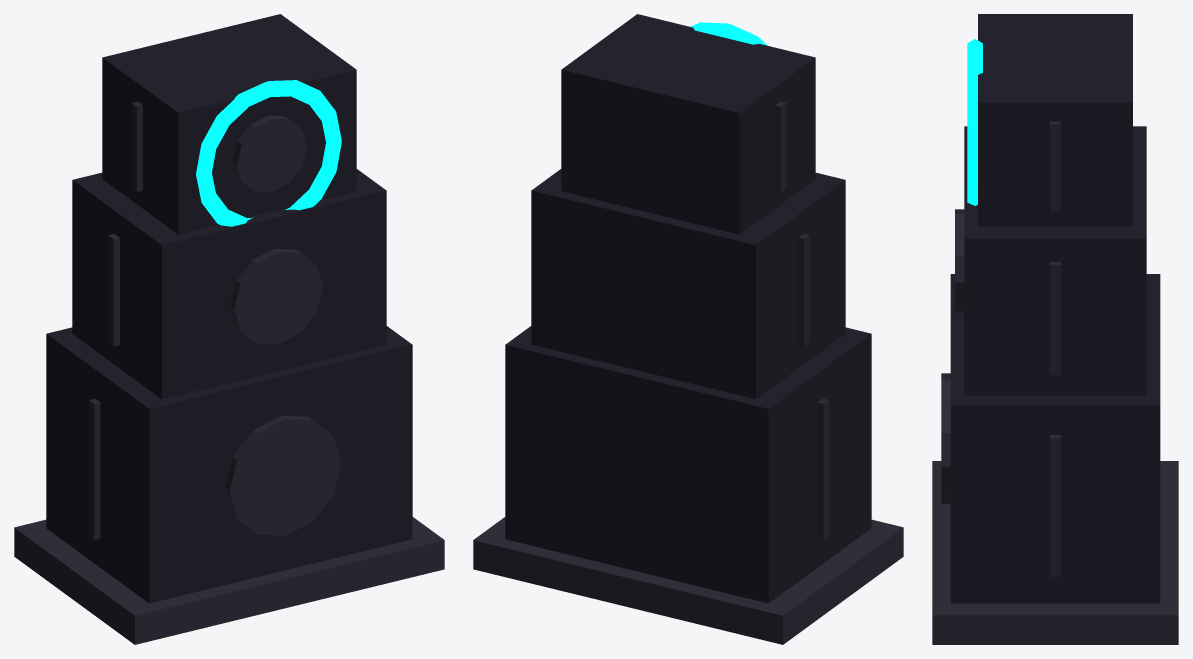
Rendered from speaker-stack.glb.
3 views of the same model, side by side, from view 1: azimuth 30°, elevation 25°; view 2: azimuth 150°, elevation 25°; view 3: azimuth 270°, elevation 25° (orthographic). The views are drawn at different scales.
Visible parts, largest first — view 1: speaker-stack; view 2: speaker-stack; view 3: speaker-stack.
Part boxes in pixels (x1,y1,x2,y2): speaker-stack: (14, 14, 444, 644); speaker-stack: (473, 14, 903, 644); speaker-stack: (932, 14, 1178, 644).
Bounding box in the file's own units: 2 × 3.15 × 1.35.
